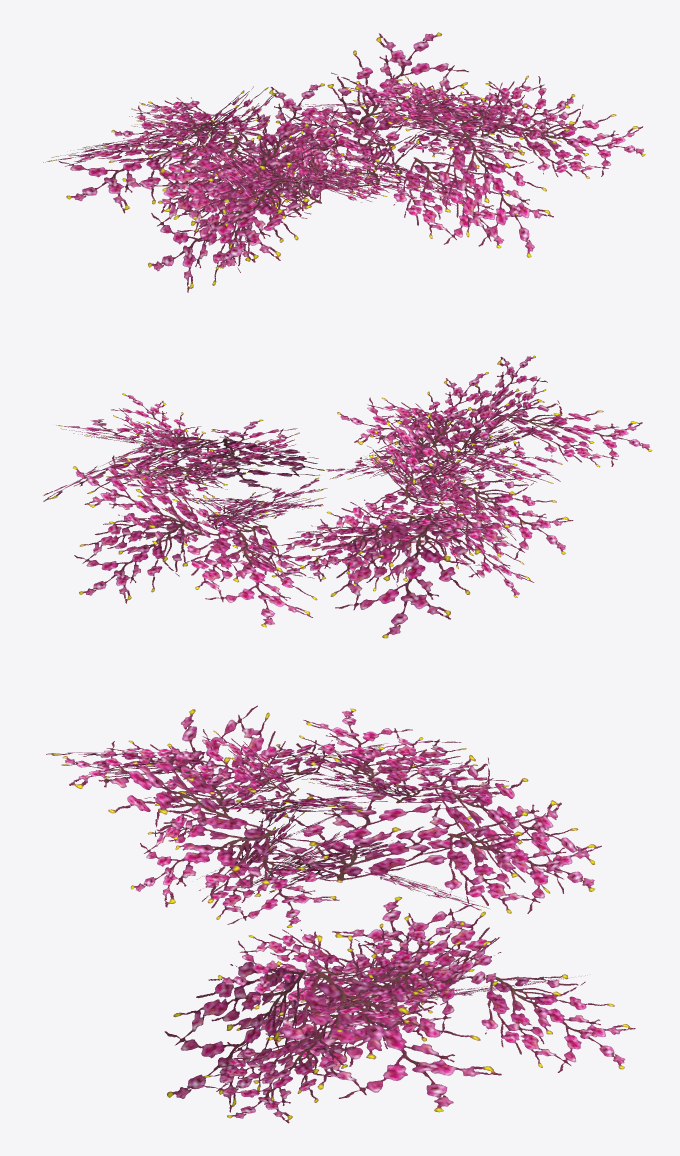
The model's file is S_Tree_Red002.FBX.
3 views of the same model, one above another, from view 1: azimuth 30°, elevation 25°; view 2: azimuth 150°, elevation 25°; view 3: azimuth 270°, elevation 25° (orthographic). The views are drawn at different scales.
Visible parts, largest first — view 1: S_Tree_Yellow041; view 2: S_Tree_Yellow041; view 3: S_Tree_Yellow041.
Boxes of the visible parts, <box> form: S_Tree_Yellow041: <box>43,32,645,292</box>; S_Tree_Yellow041: <box>43,355,652,638</box>; S_Tree_Yellow041: <box>46,705,635,1123</box>.
Size of the model in its own units: 519 by 398 by 157.
